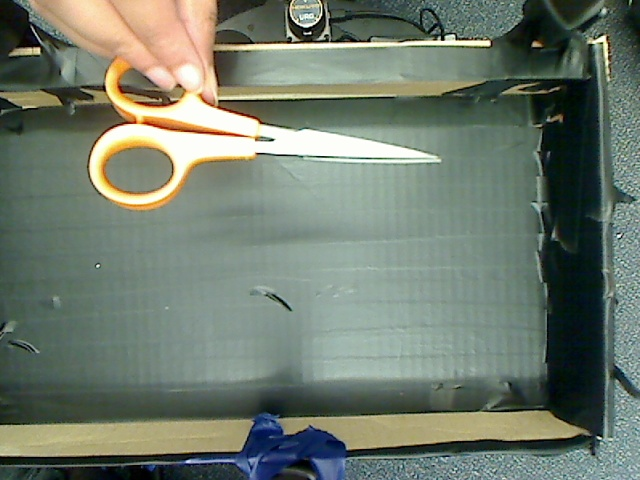scissors: (83, 50, 452, 212)
